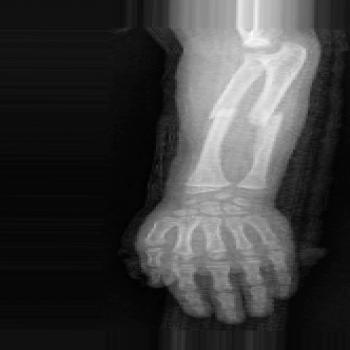Fracture: (246, 105, 297, 128), (204, 108, 240, 123)
